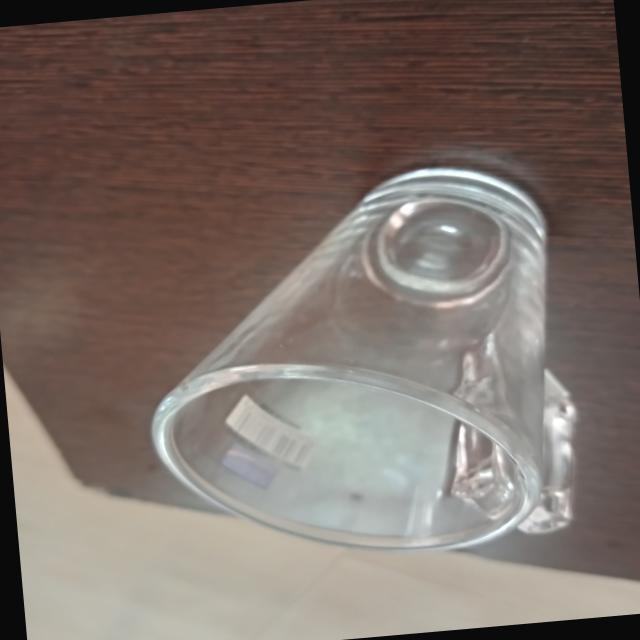glass-VX4N: (131, 146, 594, 574)
